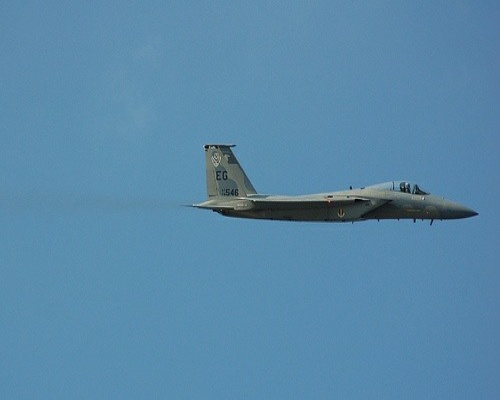plane: (184, 141, 482, 233)
